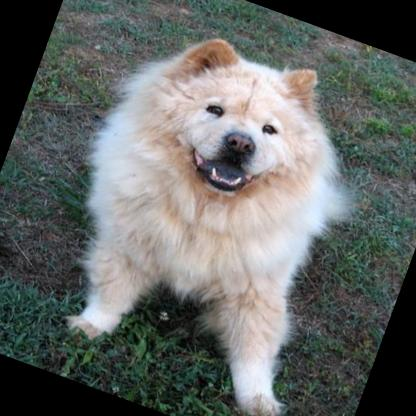chow: (15, 4, 394, 416)
